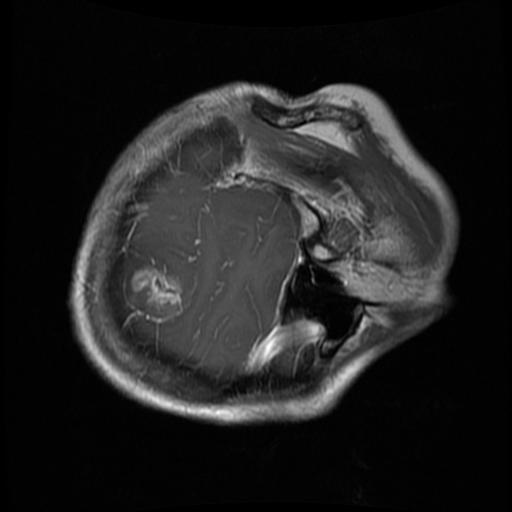glioma: (130, 269, 181, 314)
